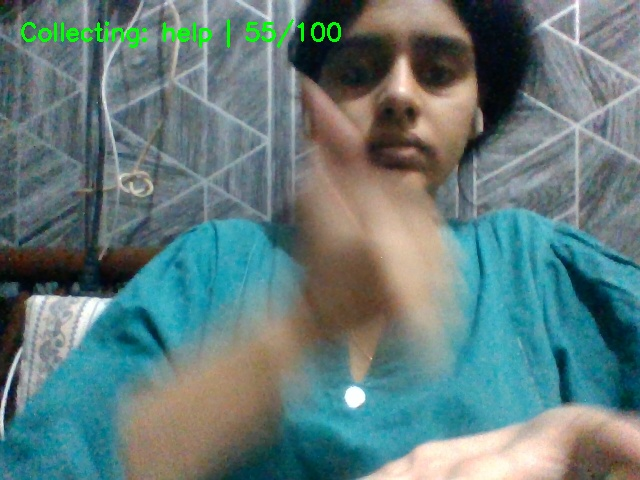help: (219, 72, 640, 480)
